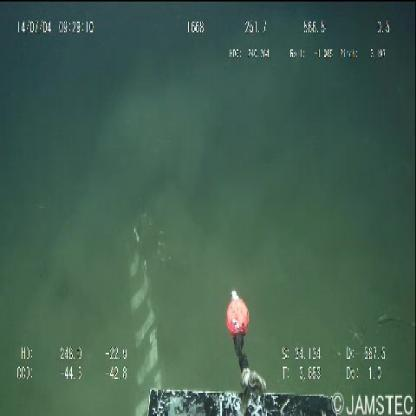Rác: (126, 227, 164, 415)
